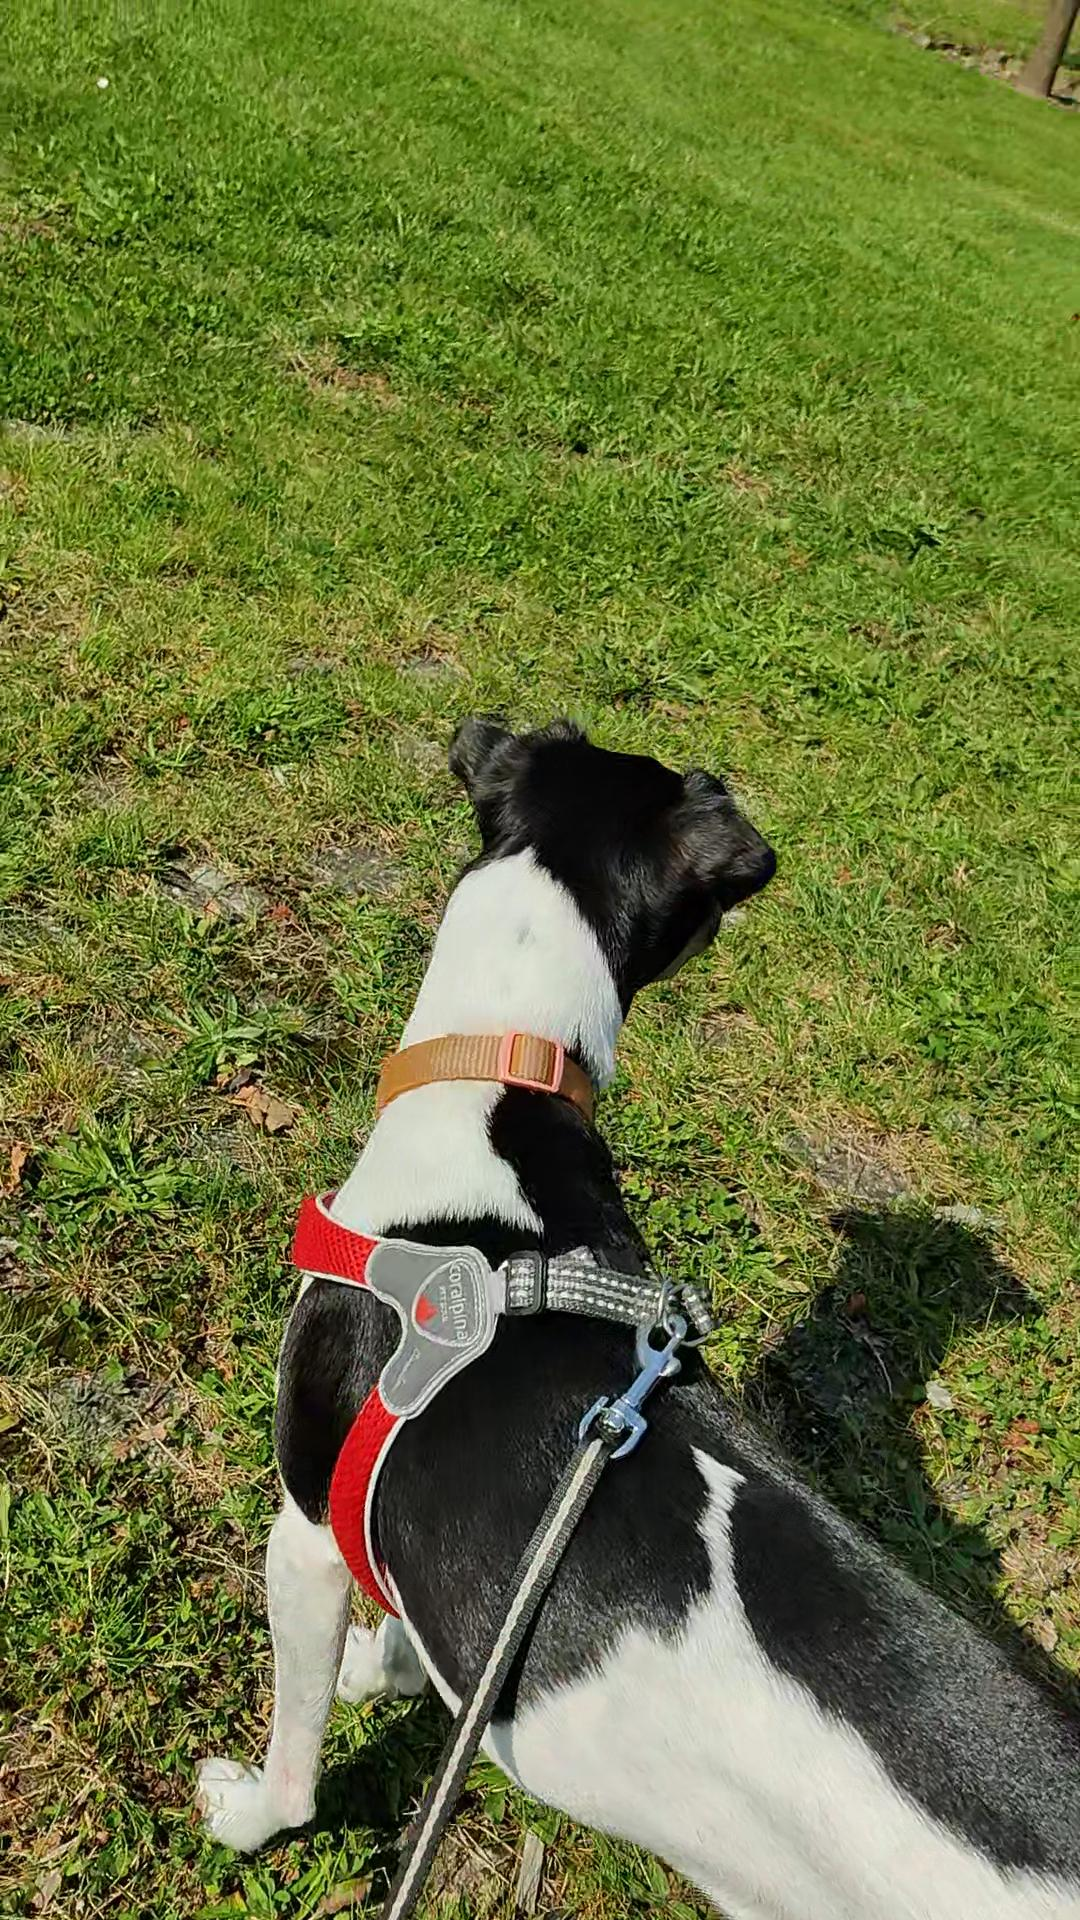Dog: (191, 709, 1079, 1919)
